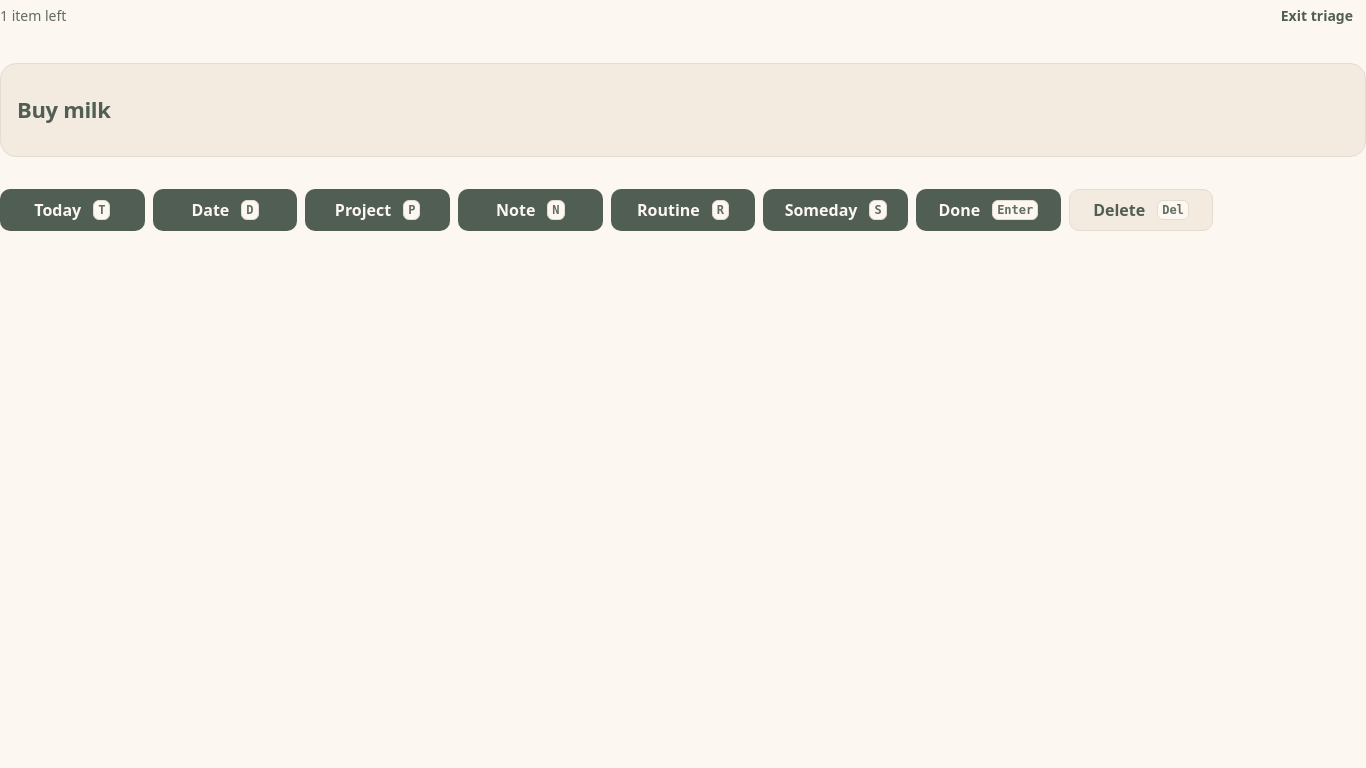
Test: TriageView › project sheet: filing to a project links it and closes the sheet
Click the button "Project P" at (378, 210), box [305,188,450,230]
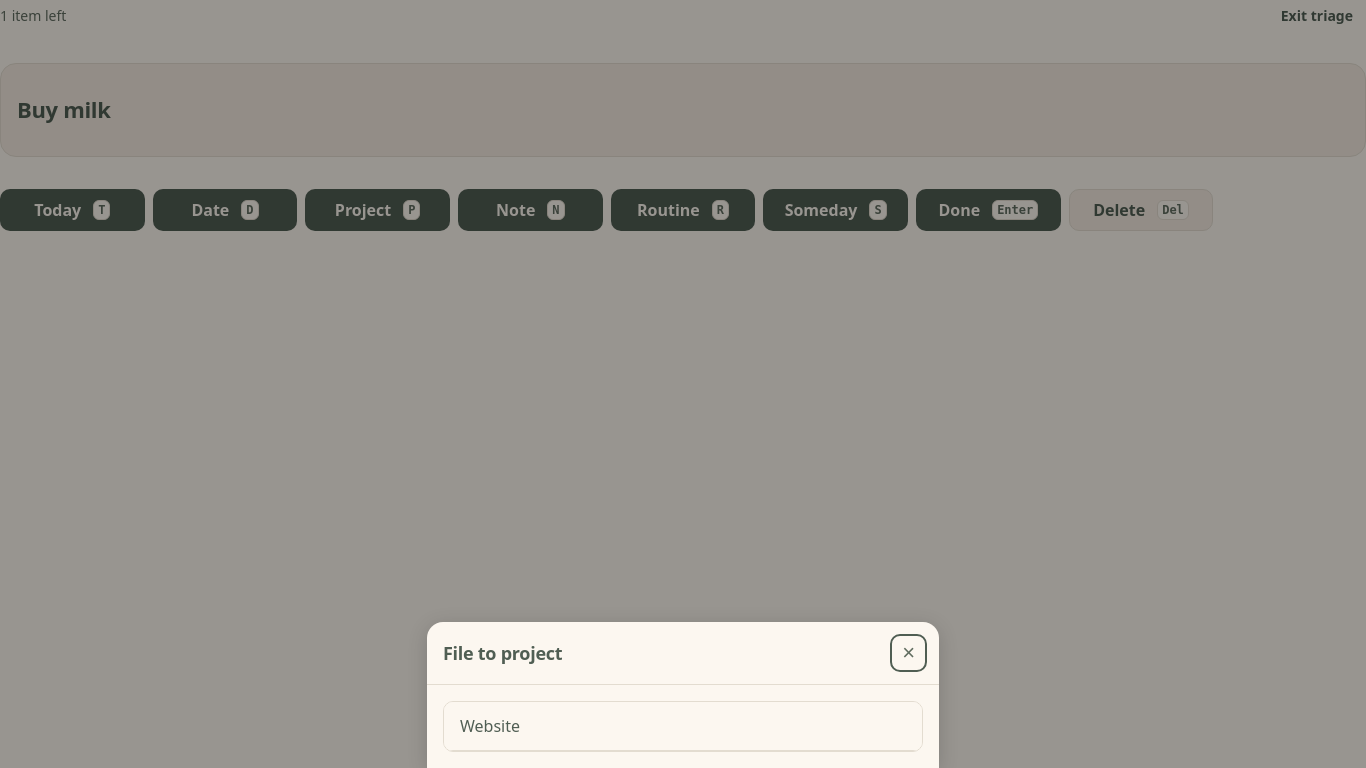
Click the button "Website" at (490, 726), box [444,702,922,751]
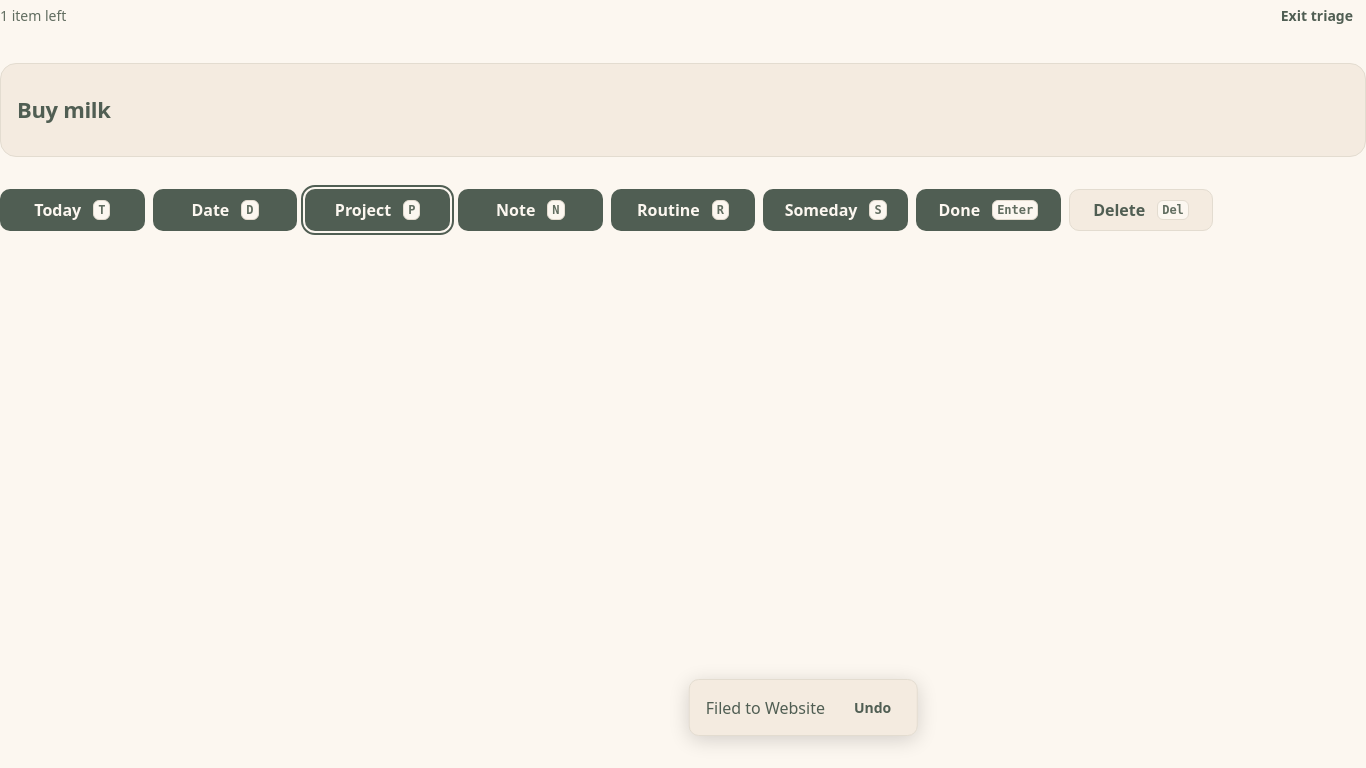
Expected: the text "Filed to Website" is shown, [706,696,825,720]
